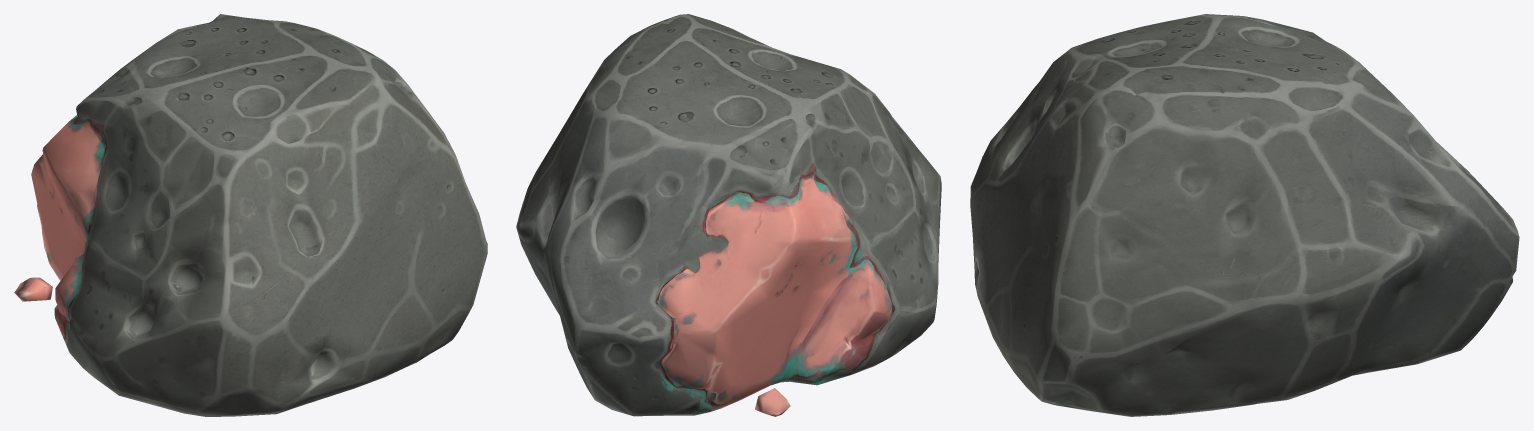
3 views of the same model, side by side, from view 1: azimuth 30°, elevation 25°; view 2: azimuth 150°, elevation 25°; view 3: azimuth 270°, elevation 25° (orthographic). The views are drawn at different scales.
Visible parts, largest first — view 1: Mesh_0; view 2: Mesh_0; view 3: Mesh_0.
Boxes of the visible parts, box(x1,y1,x2,y2) form: Mesh_0: box(14, 14, 487, 416); Mesh_0: box(516, 14, 941, 416); Mesh_0: box(970, 14, 1519, 416).
Size of the model in its own units: 1.62 by 1.17 by 1.91.
1 material, 1 textured.
